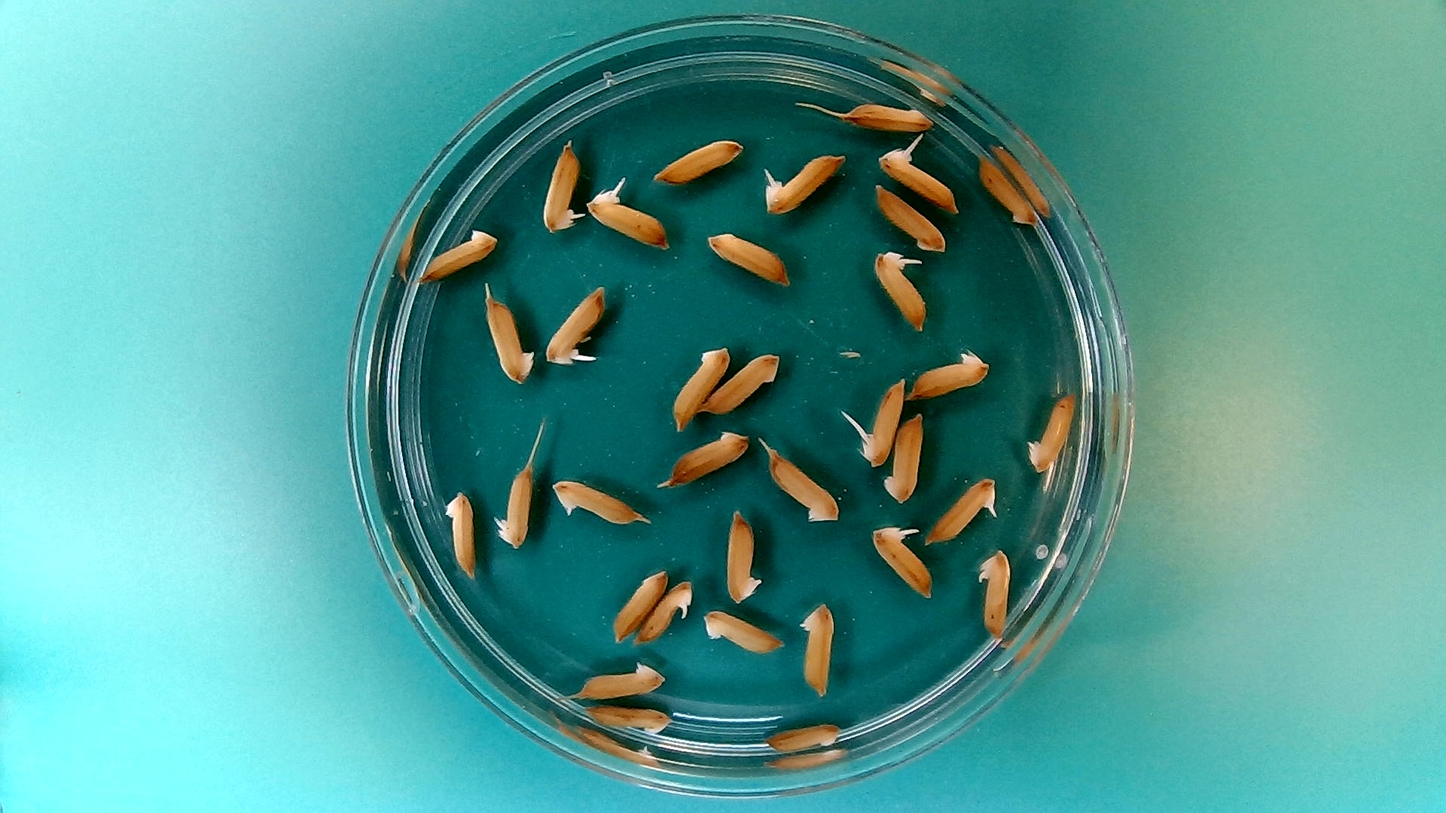no: (762, 445, 842, 524), (668, 339, 732, 433), (699, 347, 782, 417), (871, 182, 948, 253), (703, 227, 792, 288), (482, 285, 536, 385), (549, 475, 648, 528), (664, 431, 750, 490), (906, 345, 993, 400), (976, 153, 1039, 228), (415, 226, 499, 282), (652, 134, 745, 184), (611, 565, 670, 641), (572, 657, 668, 702), (723, 504, 765, 606), (798, 595, 839, 699), (882, 409, 925, 506), (700, 608, 784, 656), (1036, 385, 1078, 475), (441, 486, 479, 581), (581, 704, 675, 736), (840, 102, 937, 132), (761, 720, 844, 752)
yes: (542, 277, 606, 363), (926, 473, 1001, 544), (587, 187, 666, 250), (873, 520, 935, 599), (878, 150, 955, 209), (537, 139, 583, 237), (765, 156, 843, 212), (859, 378, 908, 466), (634, 578, 696, 646), (492, 456, 535, 553), (871, 254, 928, 327), (975, 543, 1013, 646)
